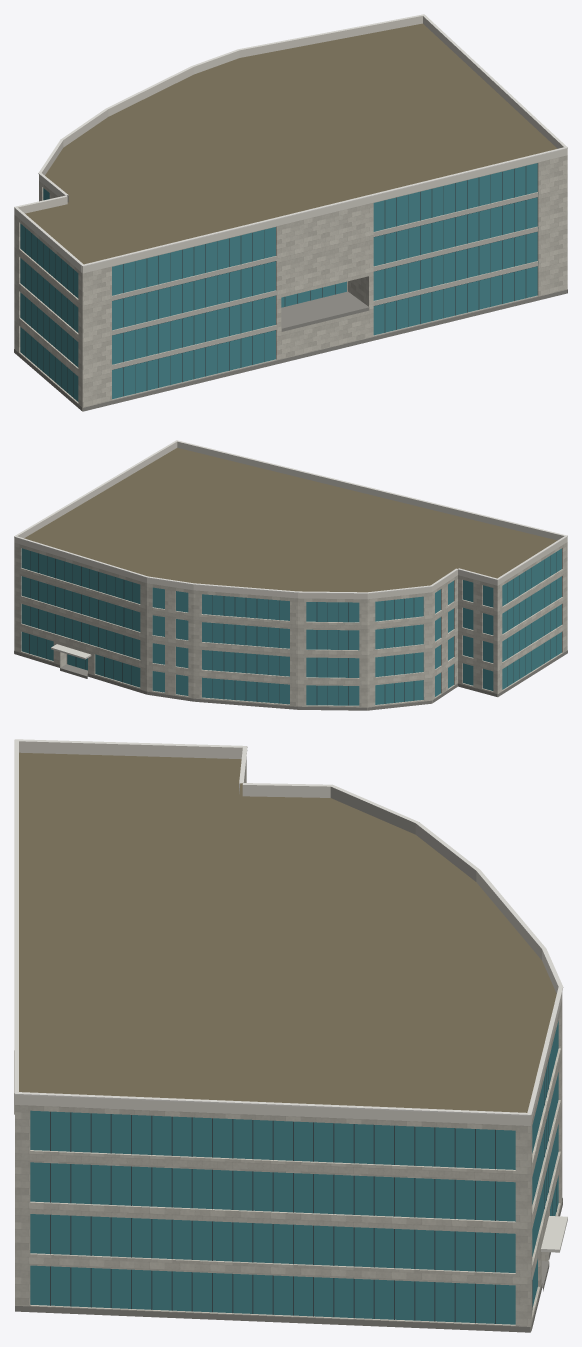
3 renders of one model, top to bottom at view 1: azimuth 30°, elevation 25°; view 2: azimuth 150°, elevation 25°; view 3: azimuth 270°, elevation 25°, orthographic. The views are drawn at different scales.
Visible parts, largest first — view 1: library__roof, library__glass, library__wall, library__parapet, library__frame, library__spandrel, library__base, library__trim; view 2: library__roof, library__glass, library__wall, library__parapet, library__frame, library__trim, library__base; view 3: library__roof, library__glass, library__wall, library__parapet, library__trim, library__frame, library__base, library__canopy.
Part boxes in pixels (left/top/right/bottom): library__roof: left=25, top=23, right=557, bottom=296; library__glass: left=20, top=163, right=538, bottom=401; library__wall: left=14, top=155, right=567, bottom=411; library__parapet: left=14, top=16, right=567, bottom=273; library__frame: left=25, top=166, right=537, bottom=397; library__spandrel: left=112, top=192, right=537, bottom=400; library__base: left=14, top=289, right=567, bottom=411; library__trim: left=14, top=14, right=567, bottom=266; library__roof: left=24, top=447, right=557, bottom=710; library__glass: left=21, top=548, right=561, bottom=705; library__wall: left=14, top=542, right=567, bottom=710; library__parapet: left=14, top=441, right=567, bottom=599; library__frame: left=29, top=551, right=556, bottom=705; library__trim: left=14, top=440, right=567, bottom=593; library__base: left=14, top=650, right=567, bottom=710; library__roof: left=19, top=752, right=556, bottom=1322; library__glass: left=30, top=1020, right=558, bottom=1324; library__wall: left=15, top=761, right=562, bottom=1331; library__parapet: left=15, top=741, right=562, bottom=1125; library__trim: left=14, top=739, right=563, bottom=1115; library__frame: left=50, top=1059, right=556, bottom=1323; library__base: left=14, top=1050, right=562, bottom=1332; library__canopy: left=541, top=1216, right=567, bottom=1252.
Size of the model in its own units: 70.26 by 19.4 by 43.79.
10 materials, 1 textured.
